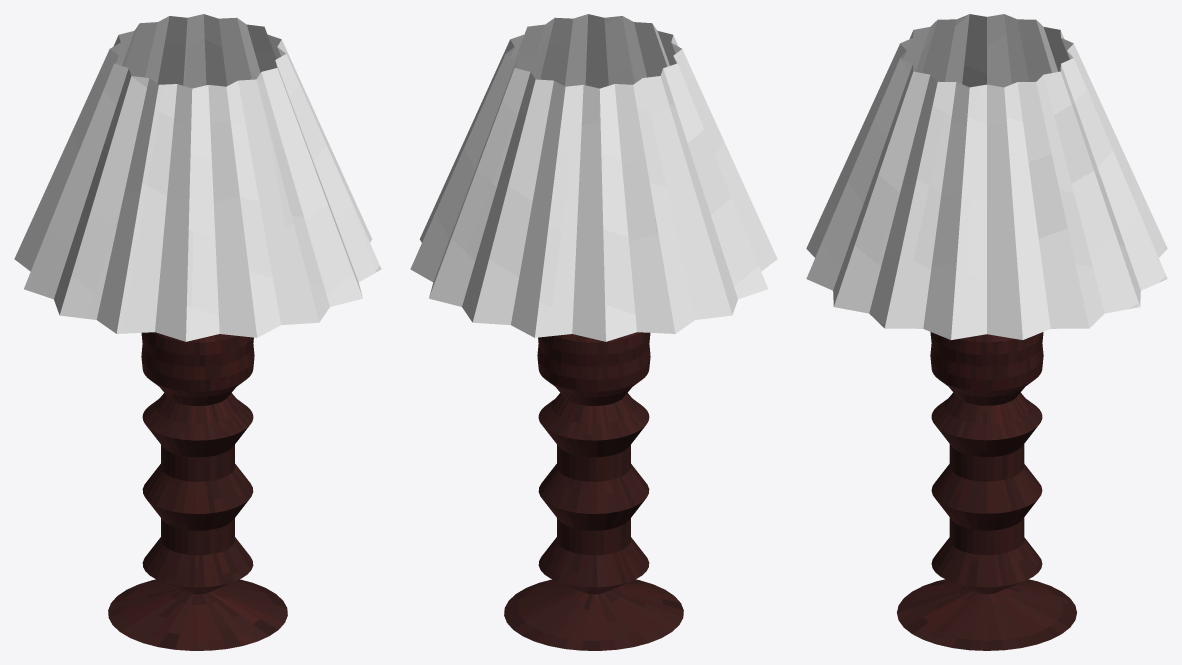
Rendered from luxury_desk_lamp.obj.
3 views of the same model, side by side, from view 1: azimuth 30°, elevation 25°; view 2: azimuth 150°, elevation 25°; view 3: azimuth 270°, elevation 25° (orthographic).
Parts seen in each view (by area): view 1: Cylinder.002_Cylinder.003; view 2: Cylinder.002_Cylinder.003; view 3: Cylinder.002_Cylinder.003.
Boxes of the visible parts, left/top/right/bottom form: Cylinder.002_Cylinder.003: left=14, top=14, right=381, bottom=650; Cylinder.002_Cylinder.003: left=410, top=14, right=777, bottom=650; Cylinder.002_Cylinder.003: left=806, top=14, right=1167, bottom=650.
Size of the model in its own units: 1.98 by 3.39 by 1.98.
